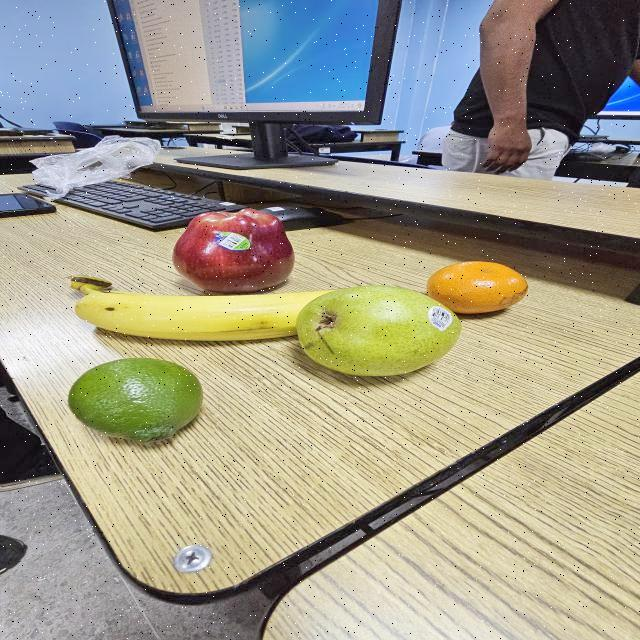Apel Merah: (166, 206, 303, 294)
Jeruk Mandarin: (420, 256, 533, 322)
Lemon: (61, 354, 212, 446)
Pir: (293, 284, 473, 382)
Pisang: (59, 271, 410, 344)
